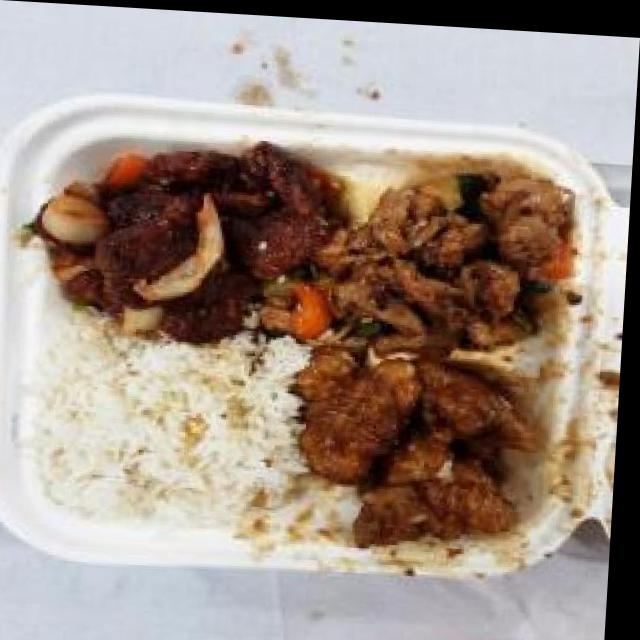Beijing Beef: (25, 122, 344, 334)
Kung Pao Chicken: (312, 140, 592, 366)
The Original Orange Chicken: (304, 343, 548, 547)
White Steamed Rice: (31, 326, 313, 531)
